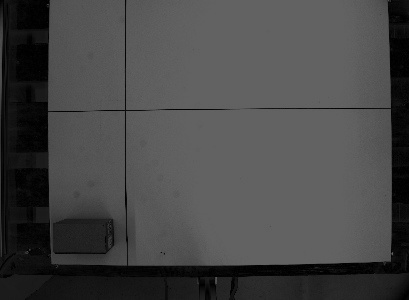b2: (51, 217, 116, 255)
